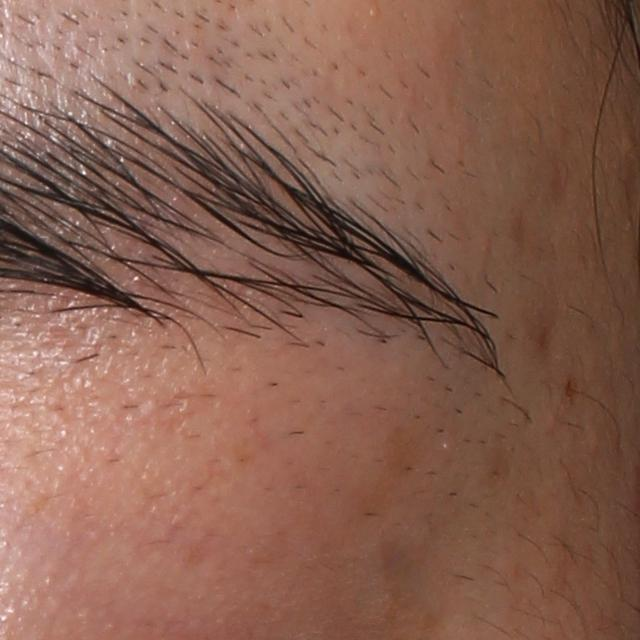melasma: (353, 421, 415, 523)
